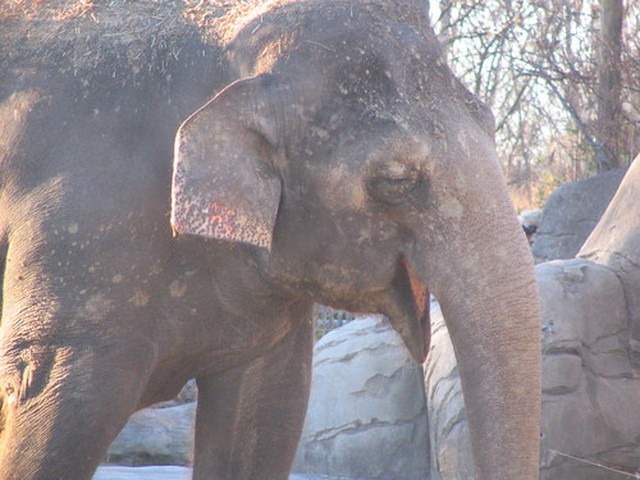Elephant: (1, 1, 548, 480)
